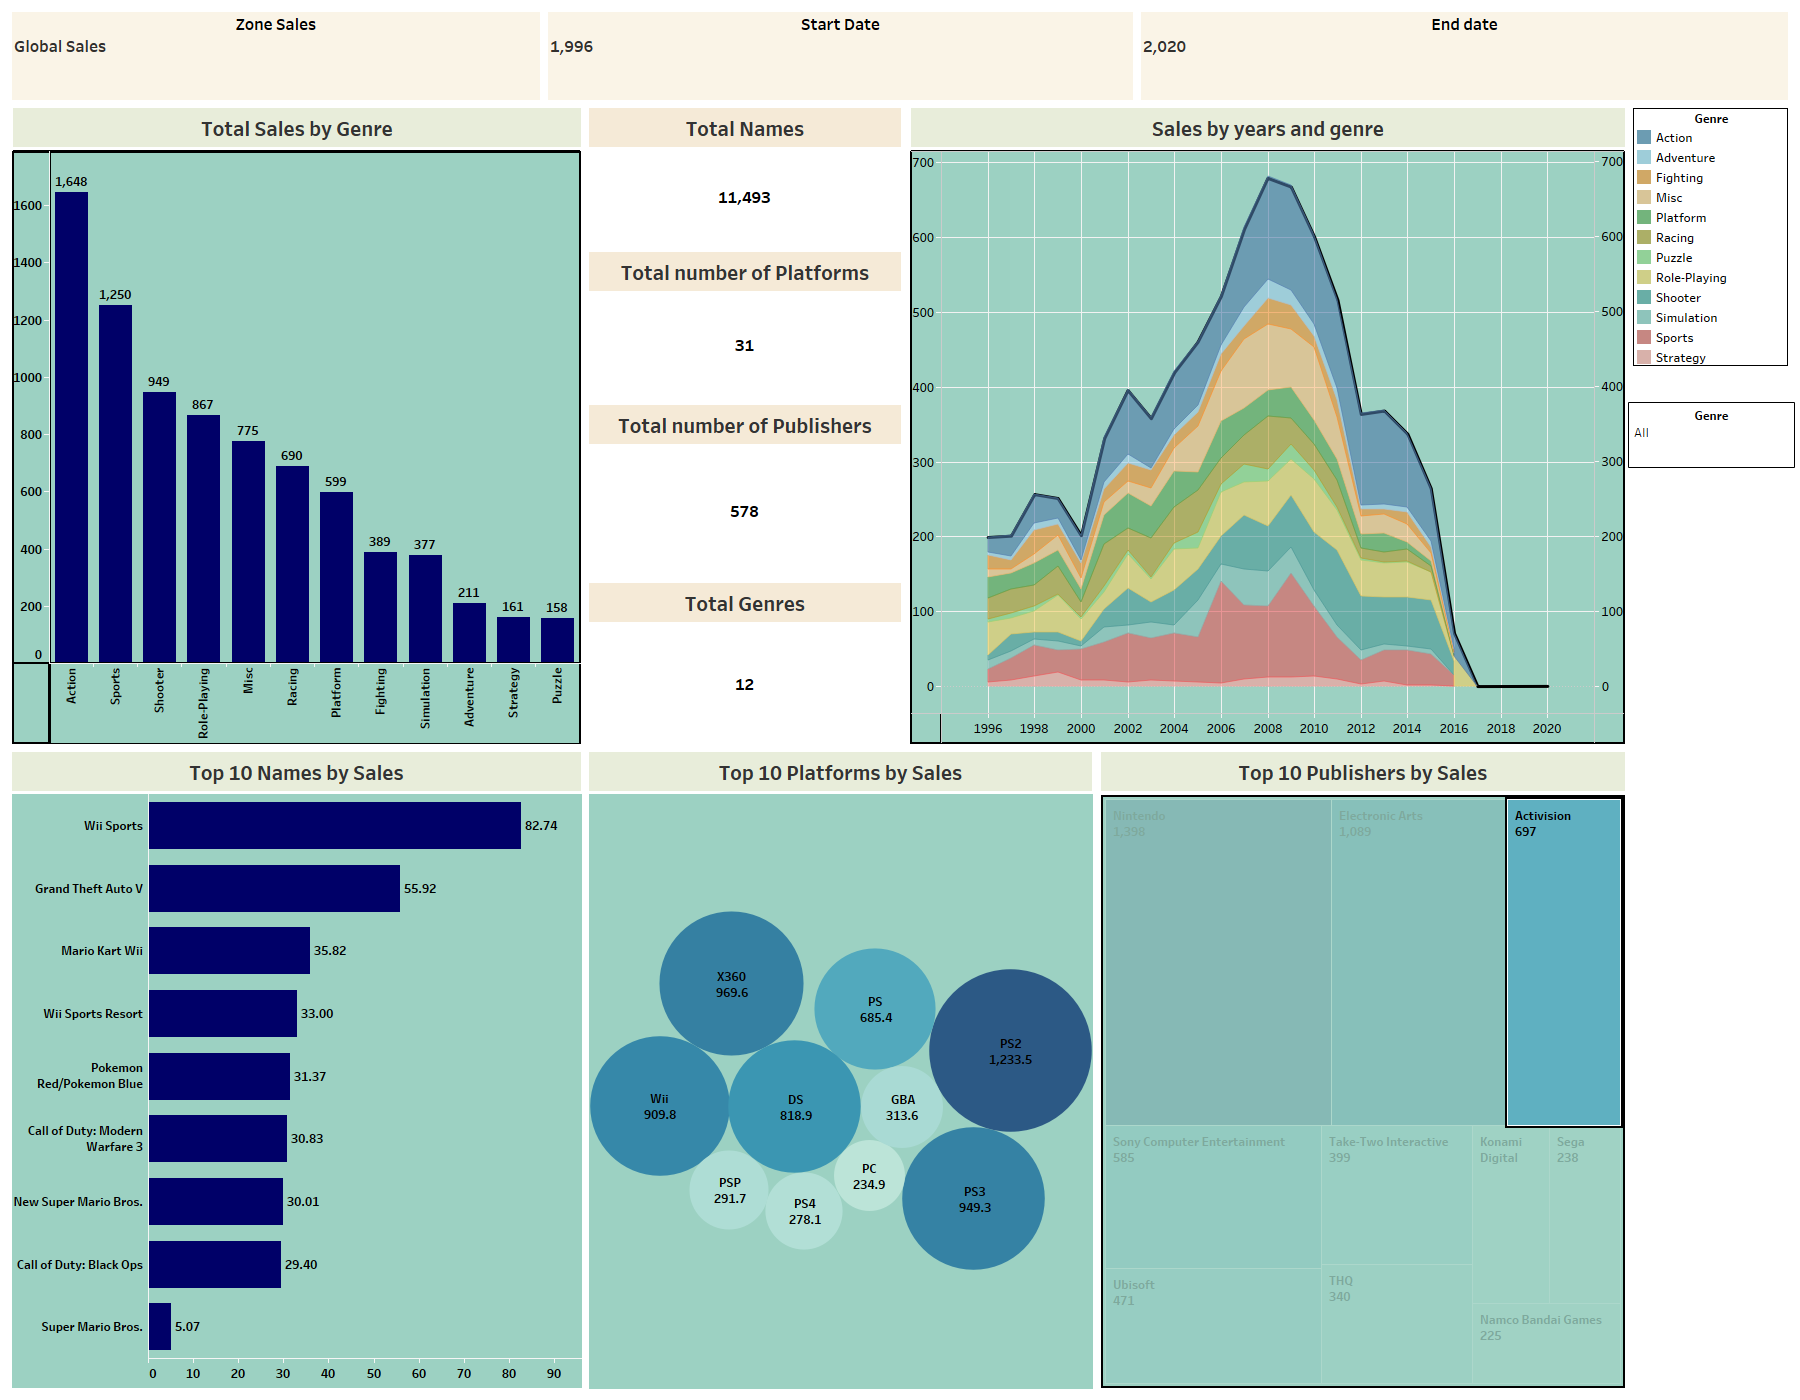

This screenshot's page, from the dashboard's own definition file:
{"tool":"tableau","page":{"name":"Dashboard 1","canvas":[1800,1400],"ordinal":0},"visuals":[{"type":"parameter","param":"[Parameters].[Parameter 1]","box":[8,8,536,95.7]},{"type":"parameter","param":"[Parameters].[Parameter 2]","box":[544,8,593,95.7]},{"type":"parameter","param":"[Parameters].[Parameter 3]","box":[1137,8,655,95.7]},{"type":"worksheet","title":"Total Sales by Genre","mark":"Automatic","rows":["Calculation_141863422604898304"],"cols":["Genre"],"box":[8,103.7,577.3,644.1]},{"type":"worksheet","title":"Total Names","mark":"Automatic","box":[585.3,103.7,320.4,144.6]},{"type":"worksheet","title":"Sales by years and genre","mark":"Automatic","rows":["Calculation_141863422604898304","Calculation_141863422604898304"],"cols":["Year"],"box":[905.7,103.7,723.3,644.1]},{"type":"legend","title":"Sales by years and genre","param":"[federated.14uioqo05z2vwo18urnq90ohhzxy].[none:Genre:nk]","box":[1629,103.7,163,266]},{"type":"worksheet","title":"Total number of Platforms","mark":"Automatic","box":[585.3,248.4,320.4,153]},{"type":"worksheet","title":"Total number of Publishers","mark":"Automatic","box":[585.3,401.4,320.4,177.9]},{"type":"filter","title":"Sales by years and genre","param":"[federated.14uioqo05z2vwo18urnq90ohhzxy].[none:Genre:nk]","box":[1628,402,167,66]},{"type":"worksheet","title":"Total Genres","mark":"Automatic","box":[585.3,579.3,320.4,168.6]},{"type":"worksheet","title":"Top 10 Names by Sales","mark":"Automatic","rows":["Name"],"cols":["Calculation_141863422604898304"],"box":[8,747.9,577.3,644.2]},{"type":"worksheet","title":"Top 10 Platforms by Sales","mark":"Circle","box":[585.3,747.9,510.7,644.2]},{"type":"worksheet","title":"Top 10 Publishers by Sales","mark":"Automatic","box":[1096,747.9,533,644.2]}]}

Visuals, with their boxes in screenshot pixels (x1, y1, x2, y2), scaled from the page's 1800x1400 canvas onto the 1800x1400 screenshot:
parameter: (8, 8, 544, 104)
parameter: (544, 8, 1137, 104)
parameter: (1137, 8, 1792, 104)
"Total Sales by Genre" worksheet: (8, 104, 585, 748)
"Total Names" worksheet: (585, 104, 906, 248)
"Sales by years and genre" worksheet: (906, 104, 1629, 748)
"Sales by years and genre" legend: (1629, 104, 1792, 370)
"Total number of Platforms" worksheet: (585, 248, 906, 401)
"Total number of Publishers" worksheet: (585, 401, 906, 579)
"Sales by years and genre" filter: (1628, 402, 1795, 468)
"Total Genres" worksheet: (585, 579, 906, 748)
"Top 10 Names by Sales" worksheet: (8, 748, 585, 1392)
"Top 10 Platforms by Sales" worksheet (Circle marks): (585, 748, 1096, 1392)
"Top 10 Publishers by Sales" worksheet: (1096, 748, 1629, 1392)
